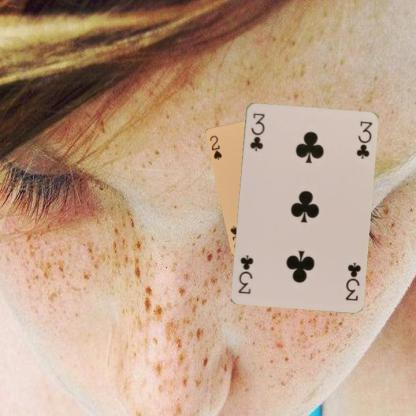2s: (207, 133, 223, 161)
3c: (342, 260, 362, 302), (247, 110, 266, 152)
